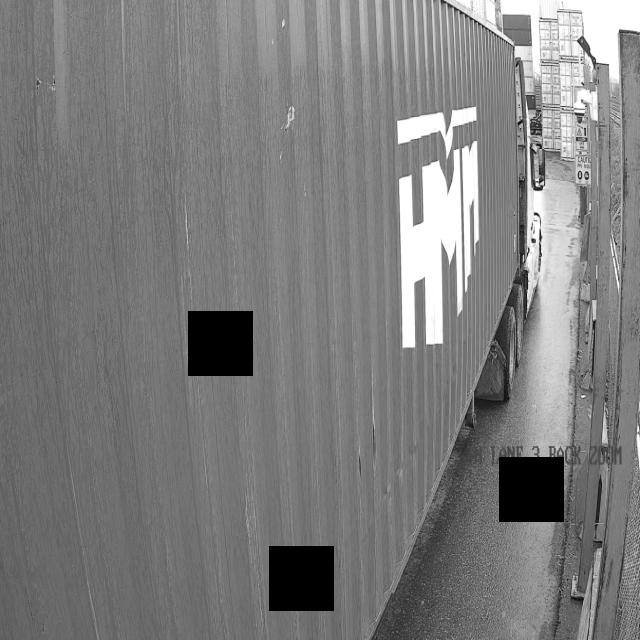container_company_logo: (362, 80, 530, 366)
truck_with_container: (0, 0, 533, 640)
